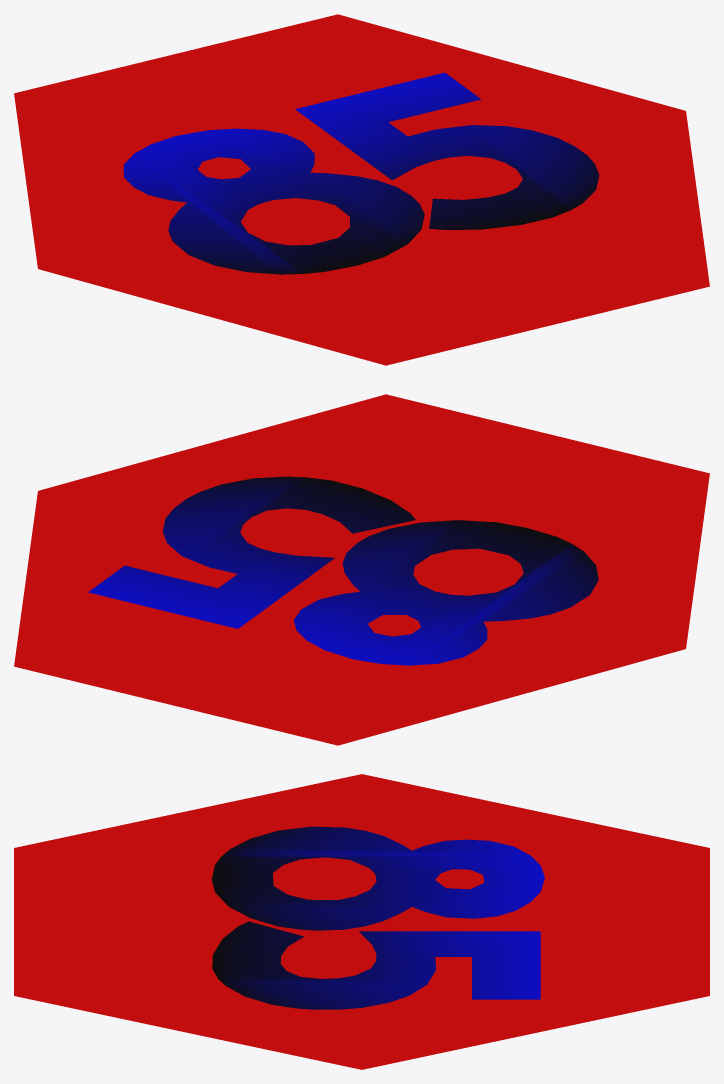
Rendered from SM_Number_85.fbx.
3 renders of one model, top to bottom at view 1: azimuth 30°, elevation 25°; view 2: azimuth 150°, elevation 25°; view 3: azimuth 270°, elevation 25°, orthographic. The views are drawn at different scales.
Visible parts, largest first — view 1: FBX_OUT; view 2: FBX_OUT; view 3: FBX_OUT.
Boxes of the visible parts, box(x1,y1,x2,y2) form: FBX_OUT: box(14, 14, 709, 365); FBX_OUT: box(14, 394, 709, 745); FBX_OUT: box(14, 774, 709, 1069).
Size of the model in its own units: 50 by 0.2917 by 49.71.
